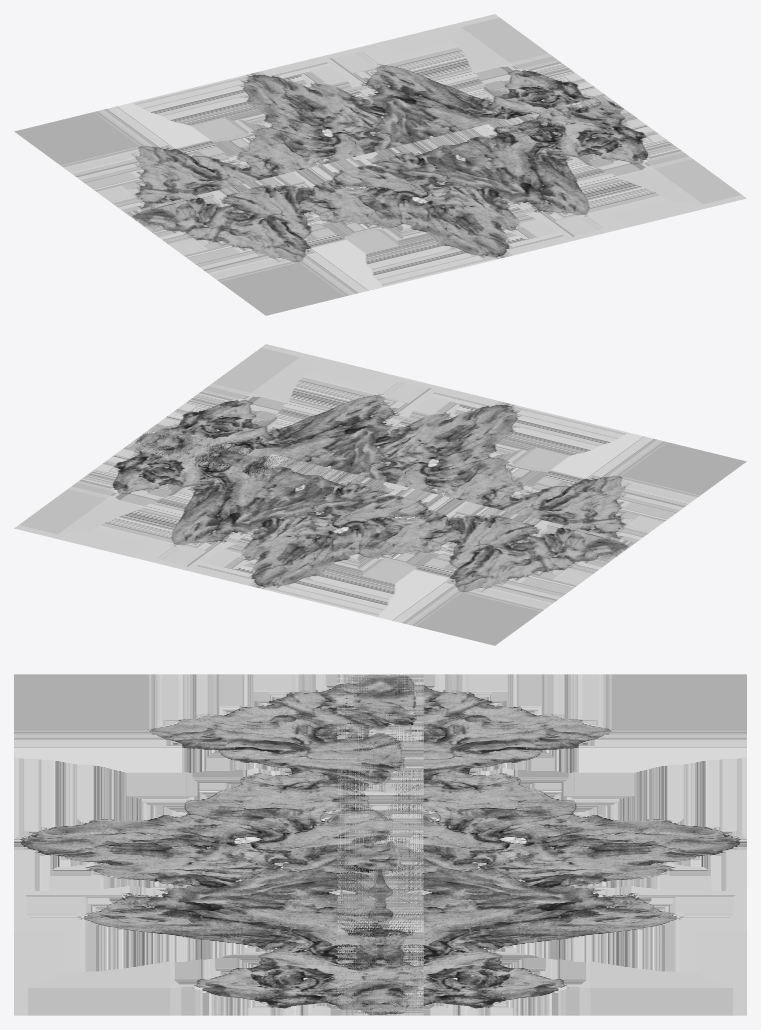
The model's file is PPX_MOUNT7.fbx.
3 renders of one model, top to bottom at view 1: azimuth 30°, elevation 25°; view 2: azimuth 150°, elevation 25°; view 3: azimuth 270°, elevation 25°, orthographic. The views are drawn at different scales.
Parts seen in each view (by area): view 1: mountain3.png, mountain3.png_2; view 2: mountain3.png_2, mountain3.png; view 3: mountain3.png, mountain3.png_2.
Part boxes in pixels (left/top/right/bottom): mountain3.png: left=125, top=95, right=746, bottom=315; mountain3.png_2: left=14, top=14, right=617, bottom=233; mountain3.png_2: left=14, top=426, right=635, bottom=645; mountain3.png: left=125, top=344, right=746, bottom=563; mountain3.png: left=14, top=674, right=423, bottom=1015; mountain3.png_2: left=337, top=674, right=746, bottom=1015.
Size of the model in its own units: 690 by 0 by 626.
Materials: 1 (1 with a texture image).
